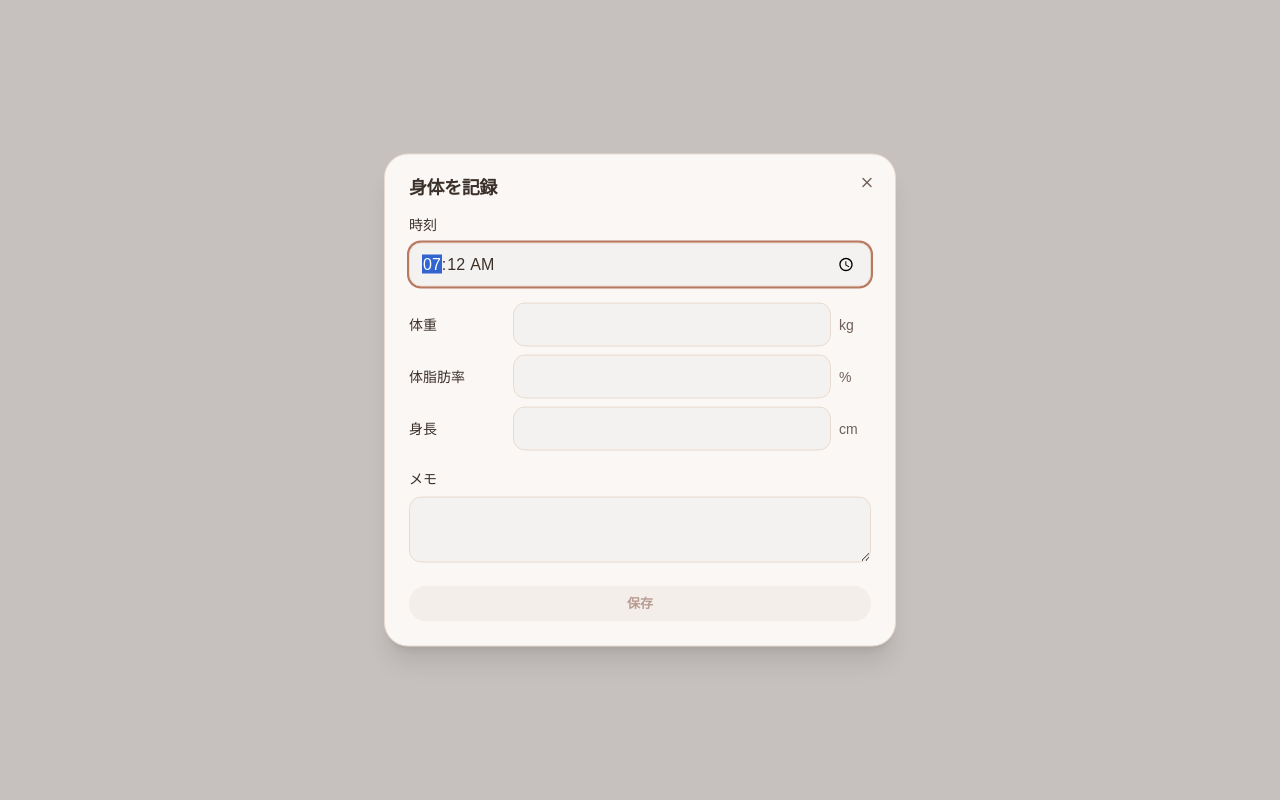
Test: ModuleRecordDialog › asks for a height when there is none and uses an entered height
This screenshot has width=1280, height=800.
Expected: the text "BMI" is not shown
Type "60" into the number field labelled "体重". click: coordinates (672, 324)
box: [513,302,831,346]
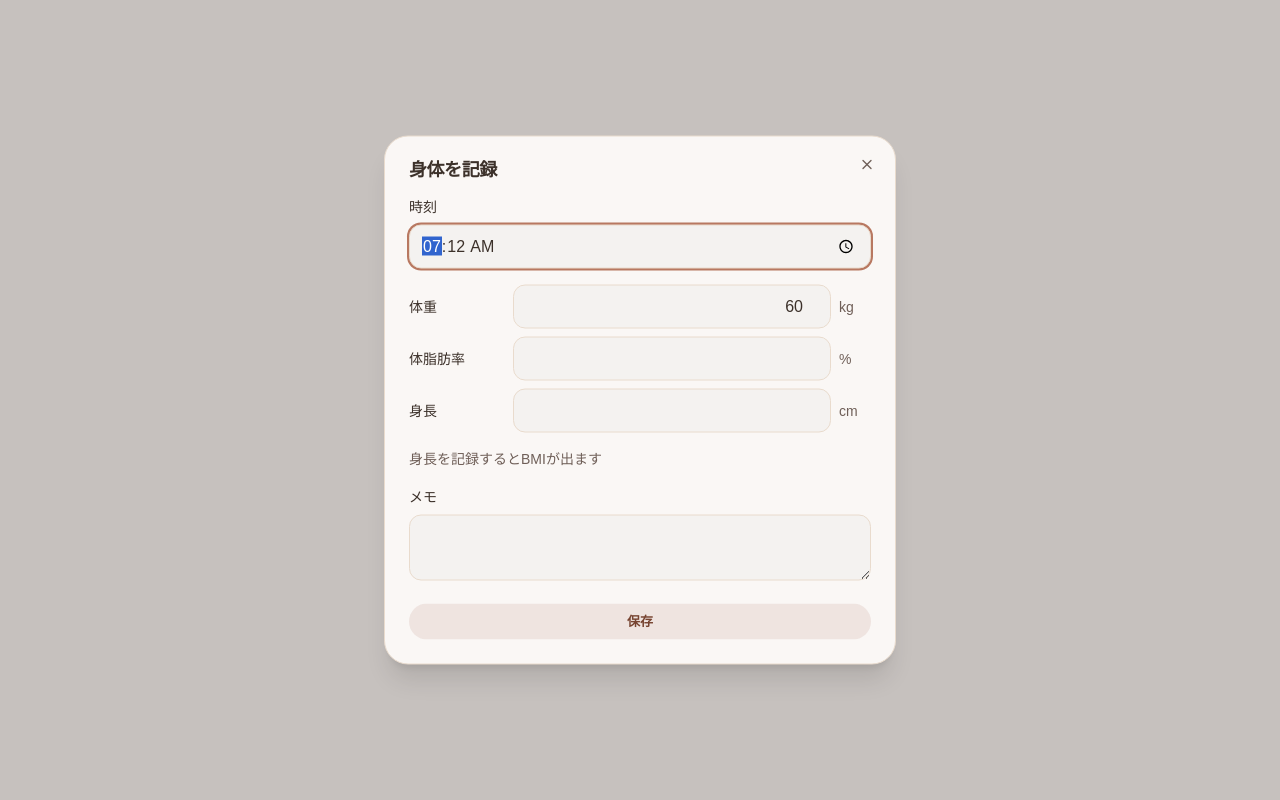
Now the text "身長を記録するとBMIが出ます" is shown, box [409,450,602,466]
Type "160" into the number field labelled "身長". click: coordinates (672, 410)
box: [513,388,831,432]
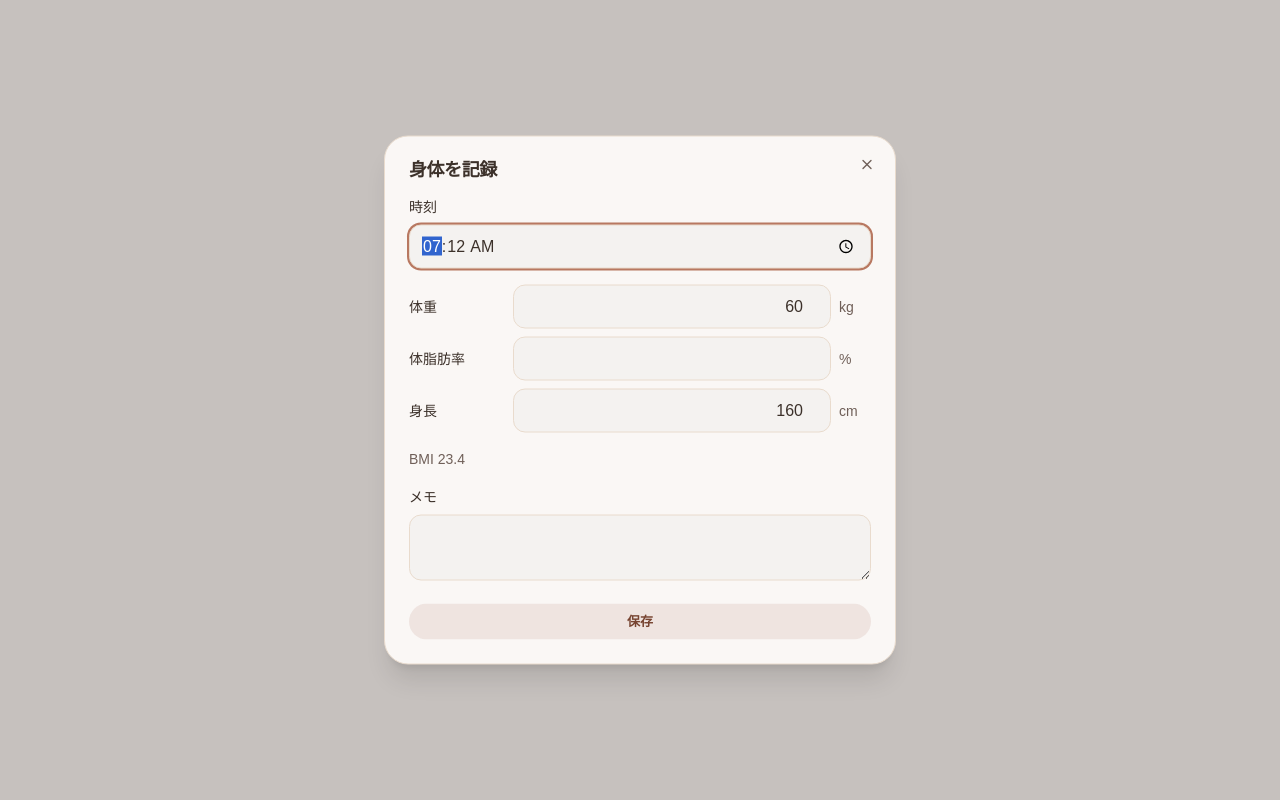
Now the text "BMI 23.4" is shown, box [409,450,465,466]
